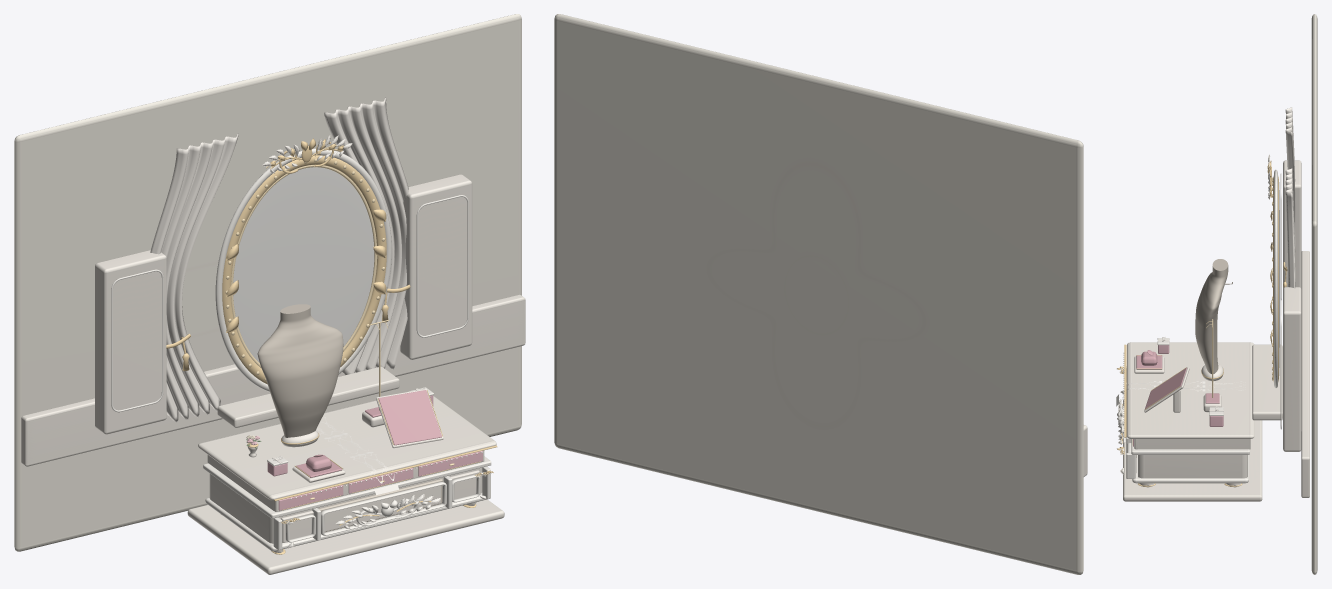
File: main-display-scene.glb
3 renders of one model, left to right at view 1: azimuth 30°, elevation 25°; view 2: azimuth 150°, elevation 25°; view 3: azimuth 270°, elevation 25°, orthographic. The views are drawn at different scales.
Parts seen in each view (by area): view 1: Fixed_Background_06 | warm oyster wall, Fixed_Background_01 | warm ivory lacquer, Fixed_01 | warm ivory lacquer, Fixed_Background_16 | softened silver mirror, Fixed_Background_08 | pale warm drapery, Fixed_Display | warm ivory velvet, Fixed_02 | ivory carved edges, Fixed_Background_04 | satin champagne brass, Fixed_Background_02 | ivory carved edges, Fixed_Display | pale blush suede, Fixed_07 | dusty blush silk, Fixed_Background_05 | champagne polished accents (+2 smaller); view 2: Fixed_Background_06 | warm oyster wall; view 3: Fixed_01 | warm ivory lacquer, Fixed_Background_01 | warm ivory lacquer, Fixed_Background_06 | warm oyster wall, Fixed_02 | ivory carved edges, Fixed_Display | warm ivory velvet, Fixed_Background_08 | pale warm drapery, Fixed_Background_02 | ivory carved edges, Fixed_Display | pale blush suede, Fixed_Background_04 | satin champagne brass, Fixed_04 | satin champagne brass, Fixed_09 | floral ecru lace cutout, Fixed_07 | dusty blush silk.
Boxes of the visible parts, <box> form: Fixed_Background_06 | warm oyster wall: <box>14,14,521,551</box>; Fixed_Background_01 | warm ivory lacquer: <box>21,135,525,466</box>; Fixed_01 | warm ivory lacquer: <box>187,389,504,574</box>; Fixed_Background_16 | softened silver mirror: <box>233,167,374,362</box>; Fixed_Background_08 | pale warm drapery: <box>150,97,408,422</box>; Fixed_Display | warm ivory velvet: <box>257,304,343,437</box>; Fixed_02 | ivory carved edges: <box>203,387,491,551</box>; Fixed_Background_04 | satin champagne brass: <box>166,138,410,384</box>; Fixed_Background_02 | ivory carved edges: <box>111,135,468,412</box>; Fixed_Display | pale blush suede: <box>296,390,441,477</box>; Fixed_07 | dusty blush silk: <box>267,395,482,510</box>; Fixed_Background_05 | champagne polished accents: <box>225,158,385,380</box>; Fixed_Background_06 | warm oyster wall: <box>554,14,1083,574</box>; Fixed_01 | warm ivory lacquer: <box>1118,342,1262,501</box>; Fixed_Background_01 | warm ivory lacquer: <box>1252,154,1309,497</box>; Fixed_Background_06 | warm oyster wall: <box>1311,14,1317,574</box>; Fixed_02 | ivory carved edges: <box>1117,338,1249,483</box>; Fixed_Display | warm ivory velvet: <box>1195,259,1232,373</box>; Fixed_Background_08 | pale warm drapery: <box>1285,107,1295,288</box>; Fixed_Background_02 | ivory carved edges: <box>1268,155,1281,429</box>; Fixed_Display | pale blush suede: <box>1136,350,1219,408</box>; Fixed_Background_04 | satin champagne brass: <box>1267,160,1287,381</box>; Fixed_04 | satin champagne brass: <box>1117,344,1242,486</box>; Fixed_09 | floral ecru lace cutout: <box>1116,381,1245,406</box>; Fixed_07 | dusty blush silk: <box>1133,345,1223,446</box>.
Size of the model in its own units: 0.7703 by 0.6045 by 0.3114.
Materials: 15 (5 with a texture image).
